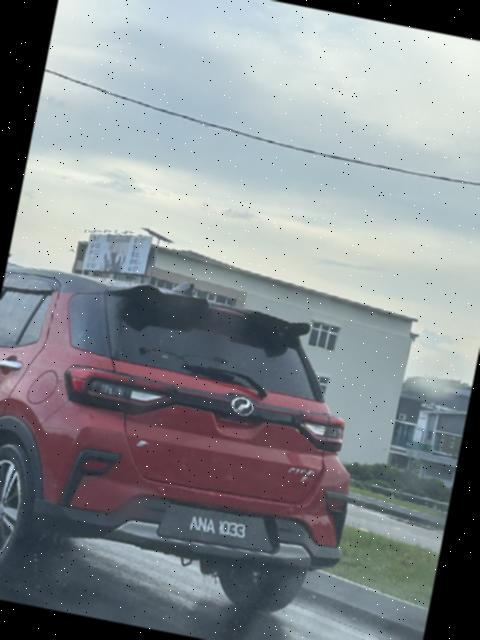License_Plate: (163, 500, 273, 558)
car: (1, 251, 393, 640)
